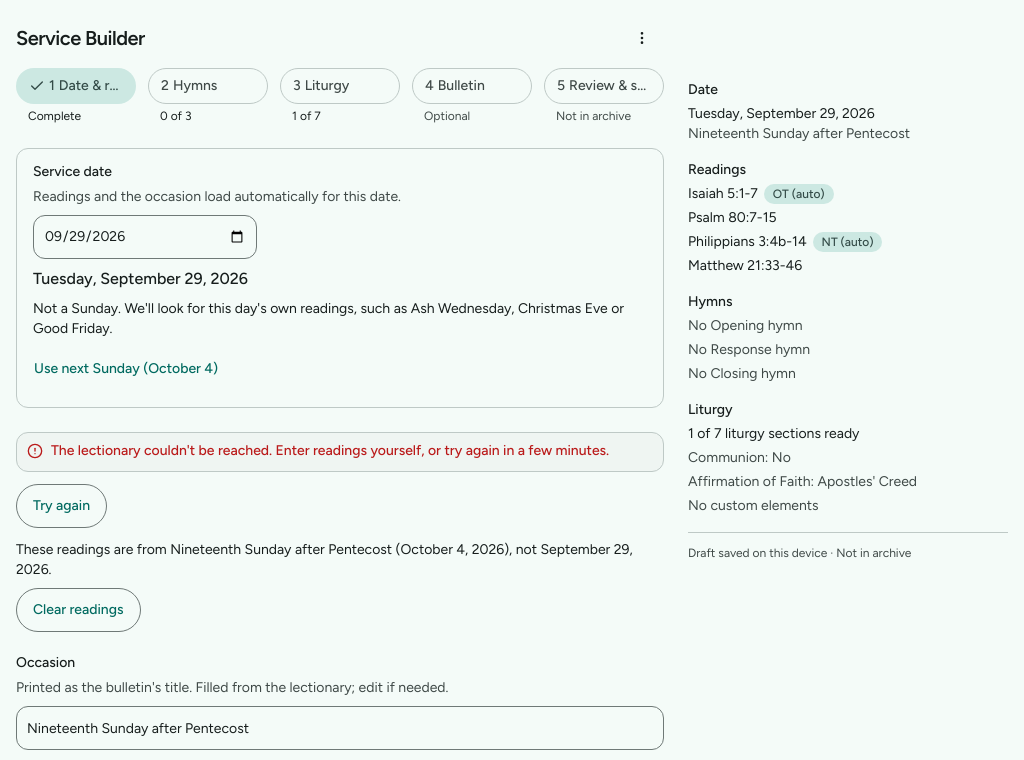
Test: lectionary status (S UX item 2) › unavailable: the lectionary's own copy, the stale note, and Try again refetches
The image size is (1024, 760).
Expected: the message shows "The lectionary couldn't be reached. Enter readings yourself, or try again in a few minutes.", [51,442,609,459]
Expected: the text "These readings are from Nineteenth Sunday after Pentecost (October 4, 2026), not September 29, 2026." is shown, [16,541,633,578]
Click the button "Try again": (62, 506) [16,484,107,528]
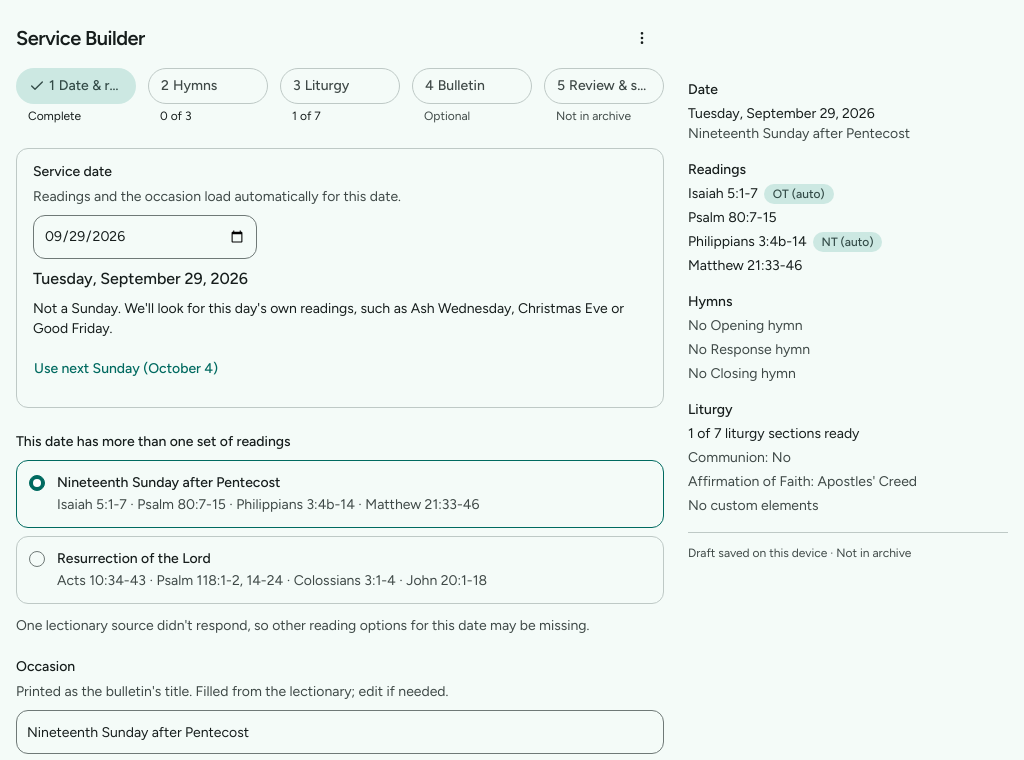
Expected: the field labelled "Occasion" holds "Nineteenth Sunday after Pentecost", [16,710,664,754]
Now the text "These readings are from" is gone
